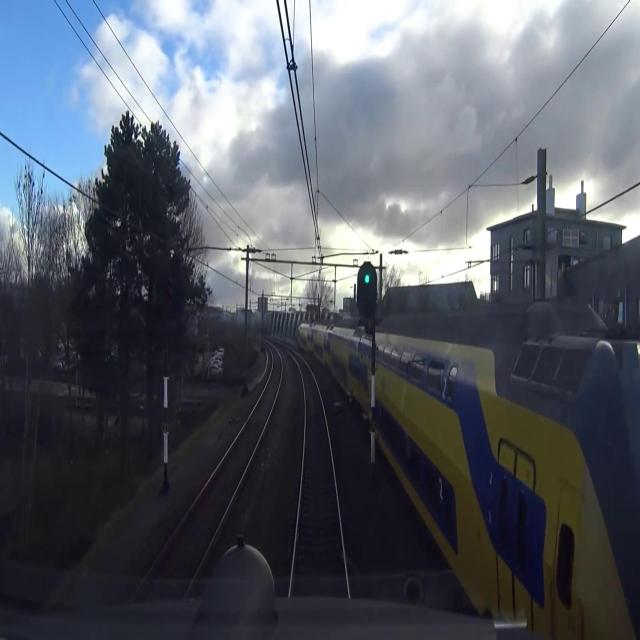rail-track: (135, 347, 280, 601), (293, 355, 345, 588)
